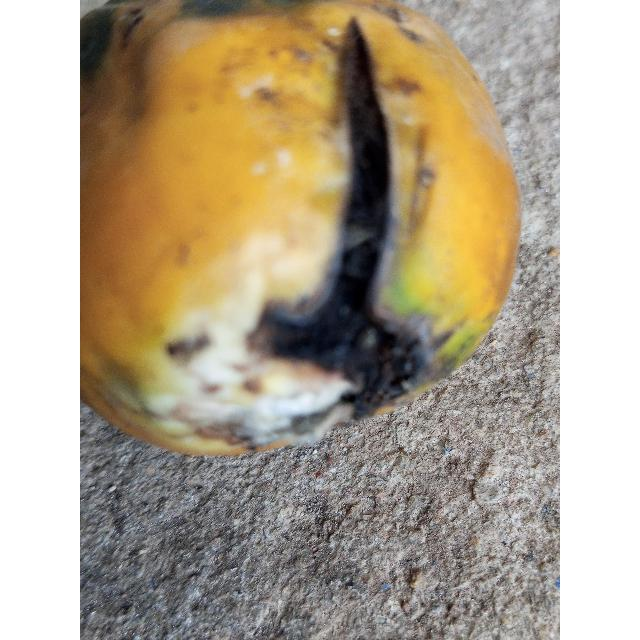damaged: (80, 0, 522, 461)
